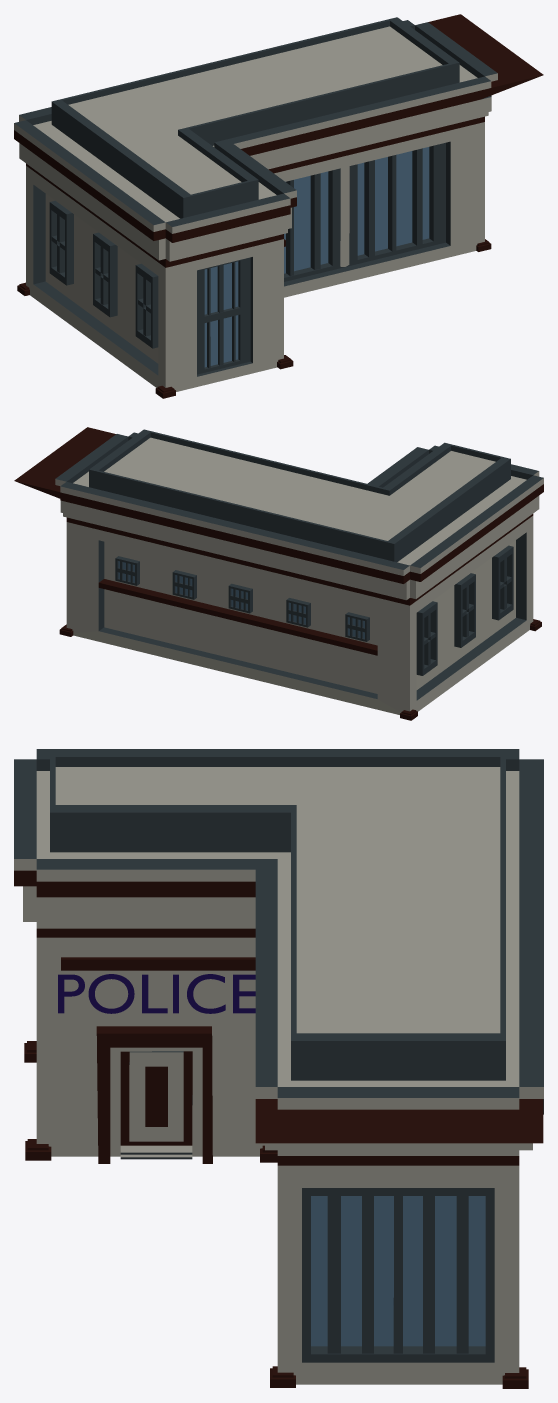
Rendered from Policja.fbx.
3 renders of one model, top to bottom at view 1: azimuth 30°, elevation 25°; view 2: azimuth 150°, elevation 25°; view 3: azimuth 270°, elevation 25°, orthographic. The views are drawn at different scales.
Visible parts, largest first — view 1: Cube; view 2: Cube; view 3: Cube.
Part boxes in pixels (<box>): Cube: <box>14,14,543,398</box>; Cube: <box>14,427,543,720</box>; Cube: <box>14,749,543,1388</box>.
Size of the model in its own units: 933 by 371 by 546.
